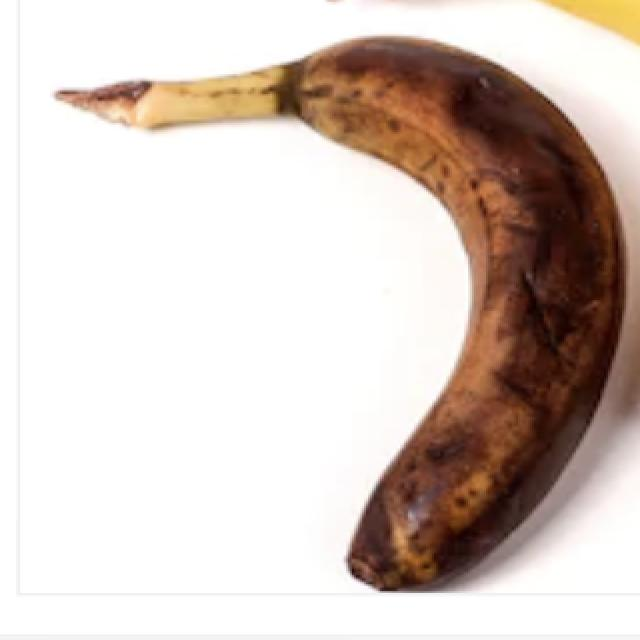rotten-banana: (52, 31, 628, 589)
